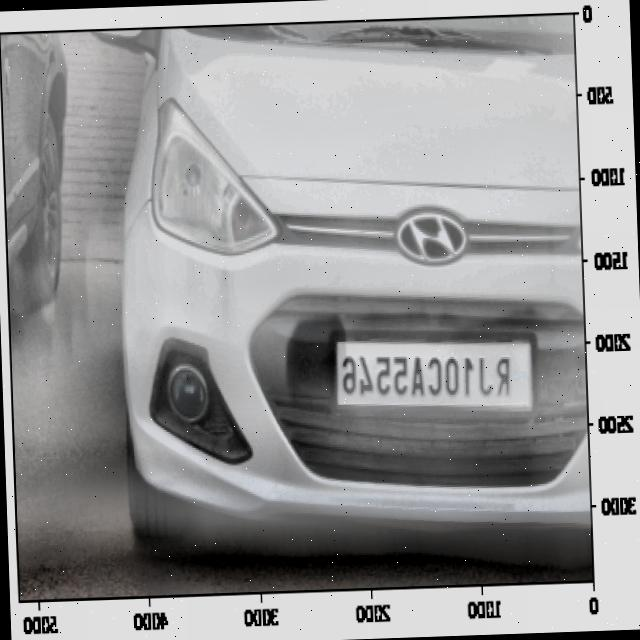license_plate: (337, 342, 528, 403)
